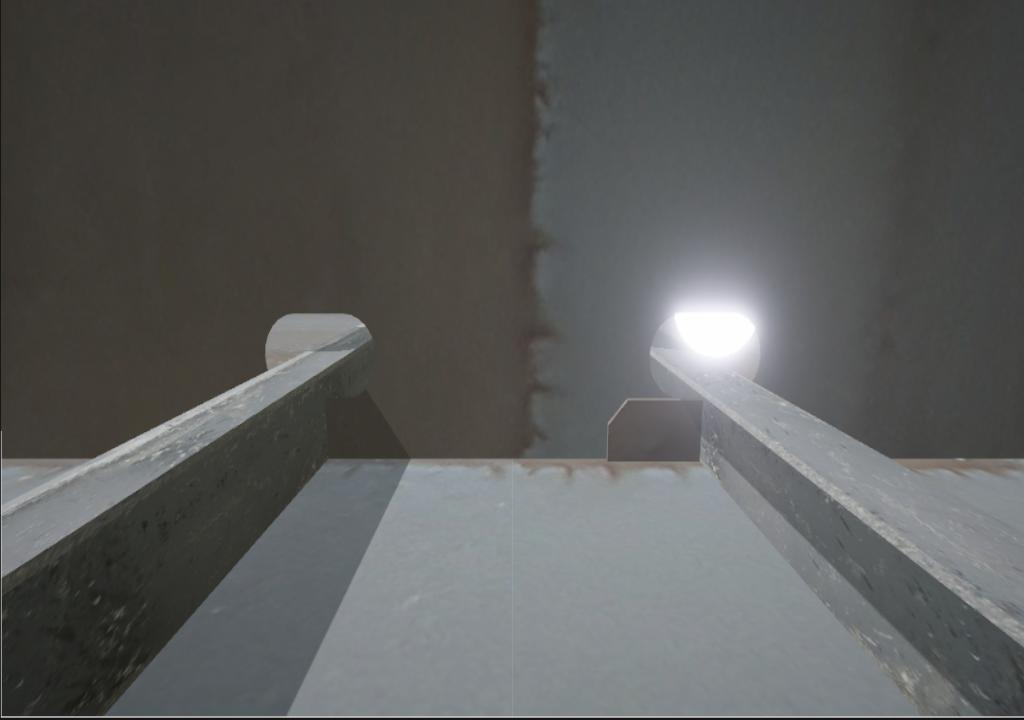fillet_yong_jeop_jang: (326, 450, 609, 465)
longi_yong_jeop_jang: (320, 391, 335, 463)
plate_CP03: (607, 397, 704, 462)
